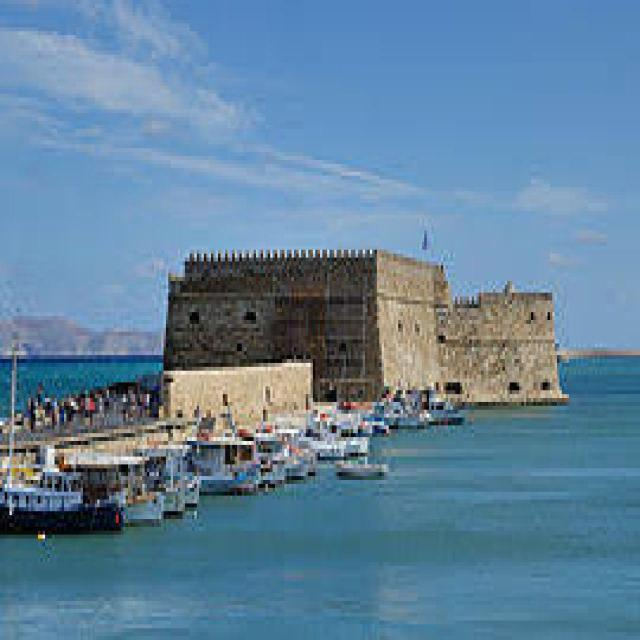Kules: (164, 223, 570, 435)
